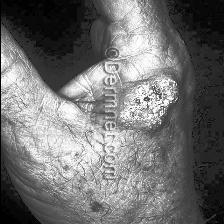Potentially Malignant Skin Tumors: (119, 72, 182, 130)
